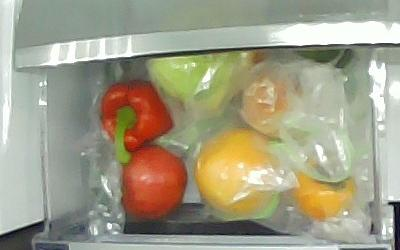apple: (120, 146, 188, 219)
grapefruit_vinyl: (195, 129, 276, 215)
lettuce_vinyl: (145, 49, 247, 114)
paprika: (99, 82, 173, 161)
persimmon_vinyl: (289, 160, 359, 222)
